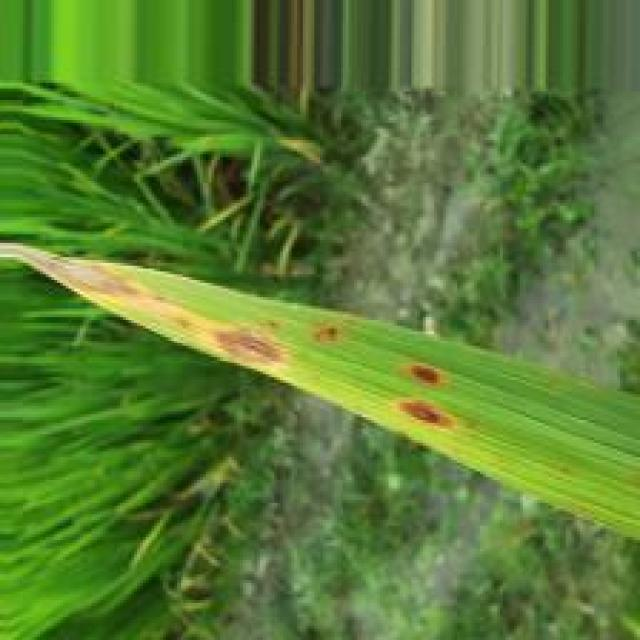Brown_Spot: (208, 322, 300, 368), (41, 260, 147, 297), (389, 400, 460, 432), (410, 358, 444, 388), (308, 322, 344, 343), (173, 314, 196, 332), (261, 317, 284, 332)
